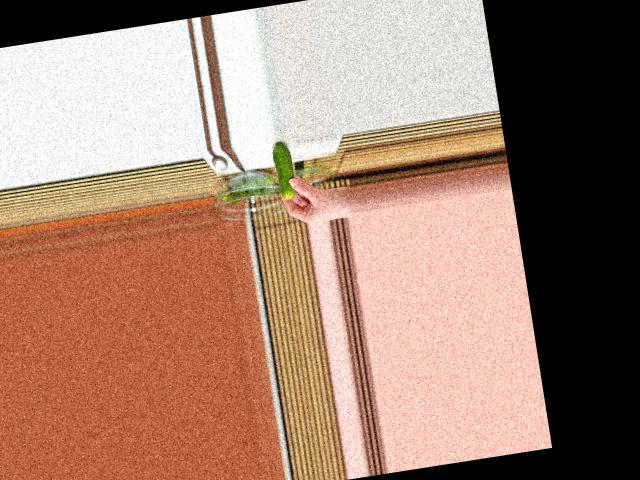cucumber: (271, 140, 297, 200)
